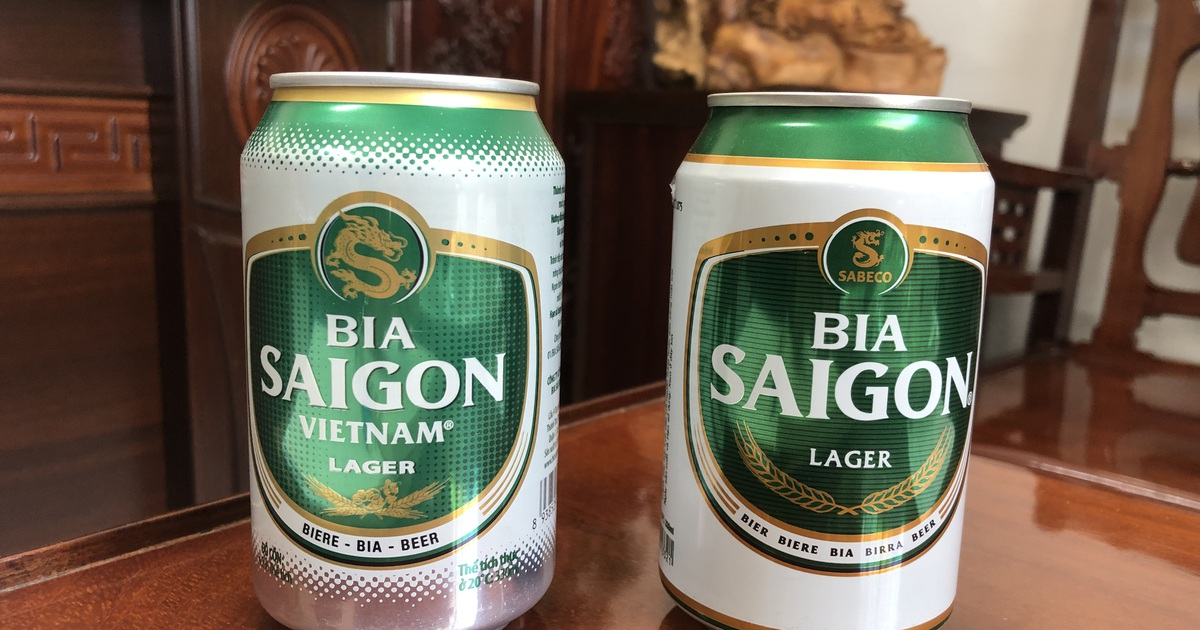biasaigon: (708, 305, 973, 423), (253, 310, 509, 415)
